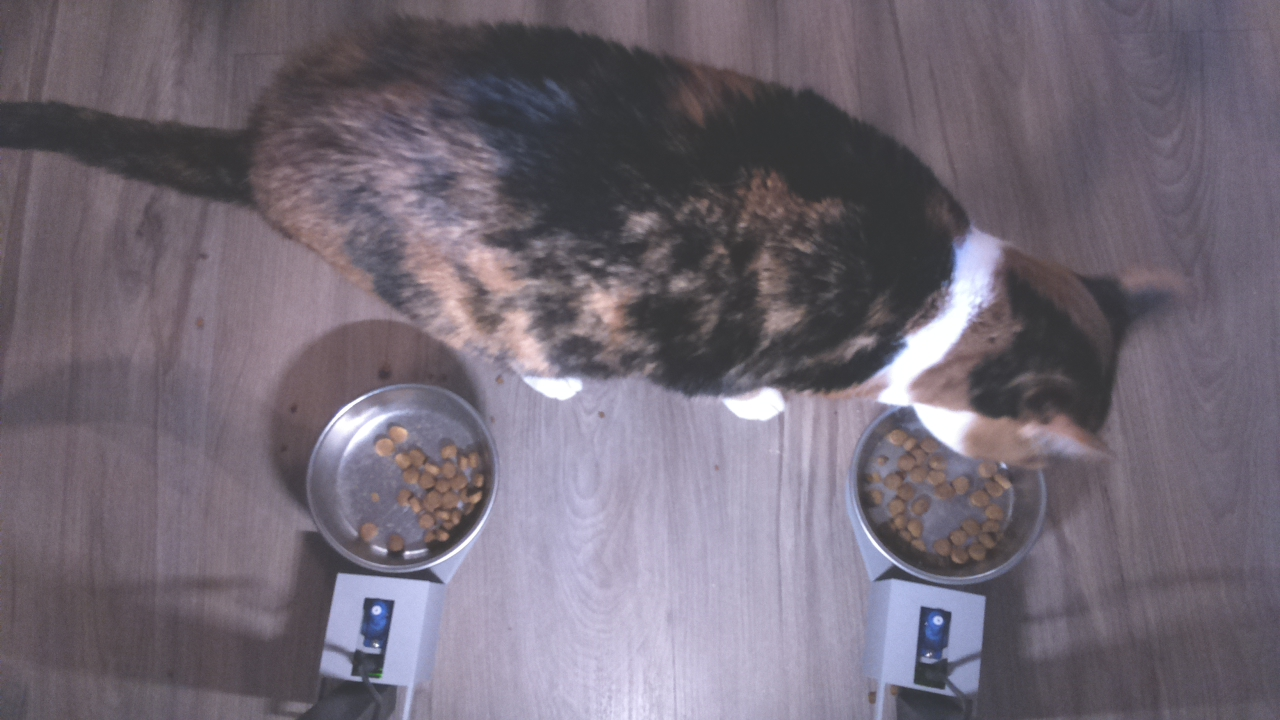bella: (869, 184, 1176, 462)
open_bowl: (297, 372, 507, 577), (849, 413, 1048, 584)
